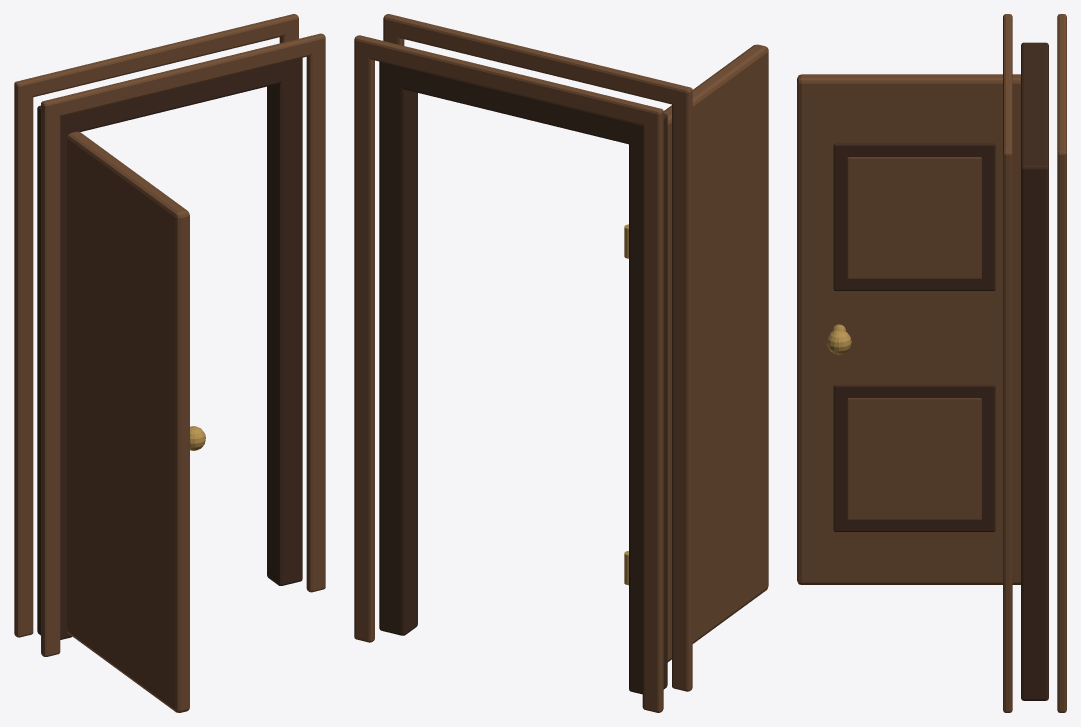
Rendered from interior_open_door.glb.
The picture shows the model from 3 angles, left to right: view 1: azimuth 30°, elevation 25°; view 2: azimuth 150°, elevation 25°; view 3: azimuth 270°, elevation 25°; orthographic projection. The views are drawn at different scales.
Parts seen in each view (by area): view 1: OpenDoorLeaf, RightJamb, BackLeftTrim, FrontLeftTrim, FrontRightTrim, LeftJamb, BackTopTrim, FrontTopTrim, TopJamb; view 2: OpenDoorLeaf, RightJamb, BackLeftTrim, FrontLeftTrim, BackRightTrim, LeftJamb, FrontTopTrim, BackTopTrim, TopJamb; view 3: OpenDoorLeaf, DoorPanelInset_1, DoorPanelInset_0, RightJamb, DoorPanel_0, DoorPanel_1, FrontRightTrim, BackRightTrim, TopJamb, FrontTopTrim, BackTopTrim, DoorKnob.
Boxes of the visible parts, <box> form: OpenDoorLeaf: <box>67,131,189,712</box>; RightJamb: <box>267,59,302,585</box>; BackLeftTrim: <box>14,87,33,637</box>; FrontLeftTrim: <box>41,107,60,656</box>; FrontRightTrim: <box>306,42,325,592</box>; LeftJamb: <box>37,111,72,639</box>; BackTopTrim: <box>14,14,298,98</box>; FrontTopTrim: <box>41,33,325,118</box>; TopJamb: <box>37,58,302,135</box>; OpenDoorLeaf: <box>663,44,768,662</box>; RightJamb: <box>379,62,417,635</box>; BackLeftTrim: <box>642,115,663,712</box>; FrontLeftTrim: <box>672,94,692,691</box>; BackRightTrim: <box>354,44,374,642</box>; LeftJamb: <box>629,119,667,694</box>; FrontTopTrim: <box>383,14,692,106</box>; BackTopTrim: <box>354,35,663,127</box>; TopJamb: <box>379,61,667,145</box>; OpenDoorLeaf: <box>797,74,1020,584</box>; DoorPanelInset_1: <box>847,157,981,279</box>; DoorPanelInset_0: <box>847,398,981,519</box>; RightJamb: <box>1021,171,1048,700</box>; DoorPanel_0: <box>833,384,995,531</box>; DoorPanel_1: <box>833,143,995,290</box>; FrontRightTrim: <box>1003,158,1012,712</box>; BackRightTrim: <box>1057,158,1066,712</box>; TopJamb: <box>1021,42,1048,189</box>; FrontTopTrim: <box>1003,14,1012,167</box>; BackTopTrim: <box>1057,14,1066,167</box>; DoorKnob: <box>826,329,851,354</box>.
Bounding box in the file's own units: 1.18 × 2.22 × 0.964.
